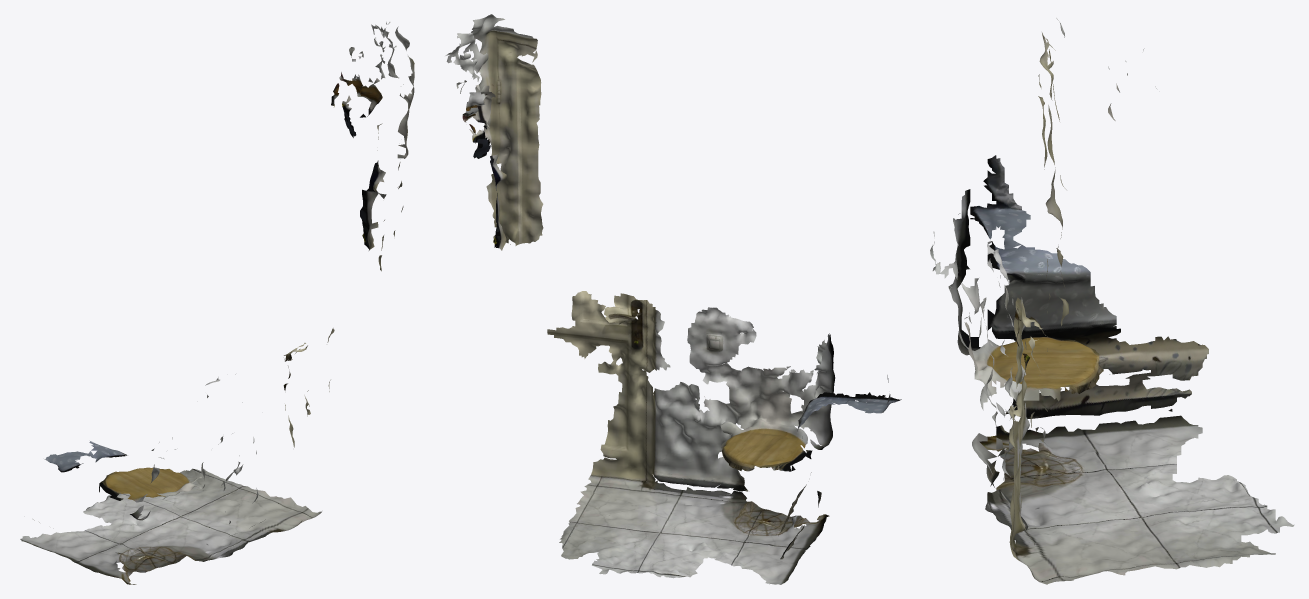
File: 127440-BedroomManual-tex.glb
3 views of the same model, side by side, from view 1: azimuth 30°, elevation 25°; view 2: azimuth 150°, elevation 25°; view 3: azimuth 270°, elevation 25° (orthographic). The views are drawn at different scales.
Parts seen in each view (by area): view 1: Node; view 2: Node; view 3: Node.
Part boxes in pixels (x1,y1,x2,y2): Node: (20,22,414,584); Node: (445,14,901,584); Node: (930,18,1294,584).
Bounding box in the file's own units: 2.17 × 2.37 × 1.22.
Materials: 1 (1 with a texture image).
